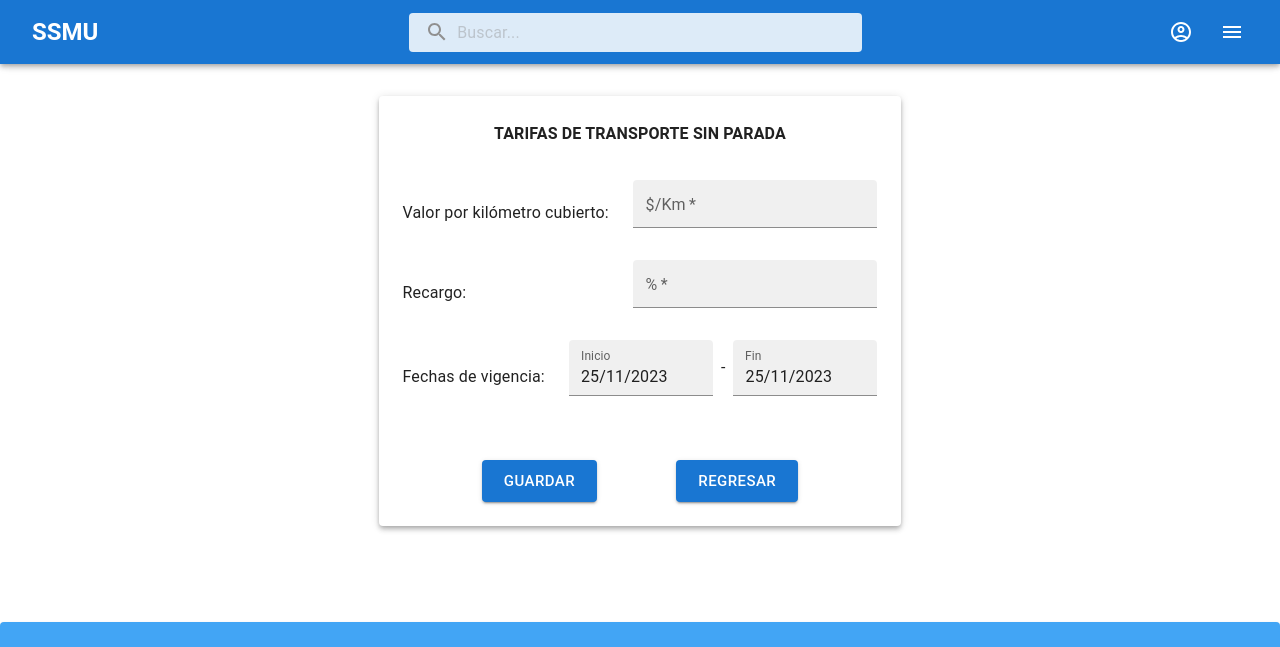
Test: DeTransportePage › displays error message when surchage is not between 0% and 30% and all required fields are set
In the field labelled "Valor por kilómetro cubierto:": point(756, 204) x1=634 y1=180 x2=878 y2=228, type "2"
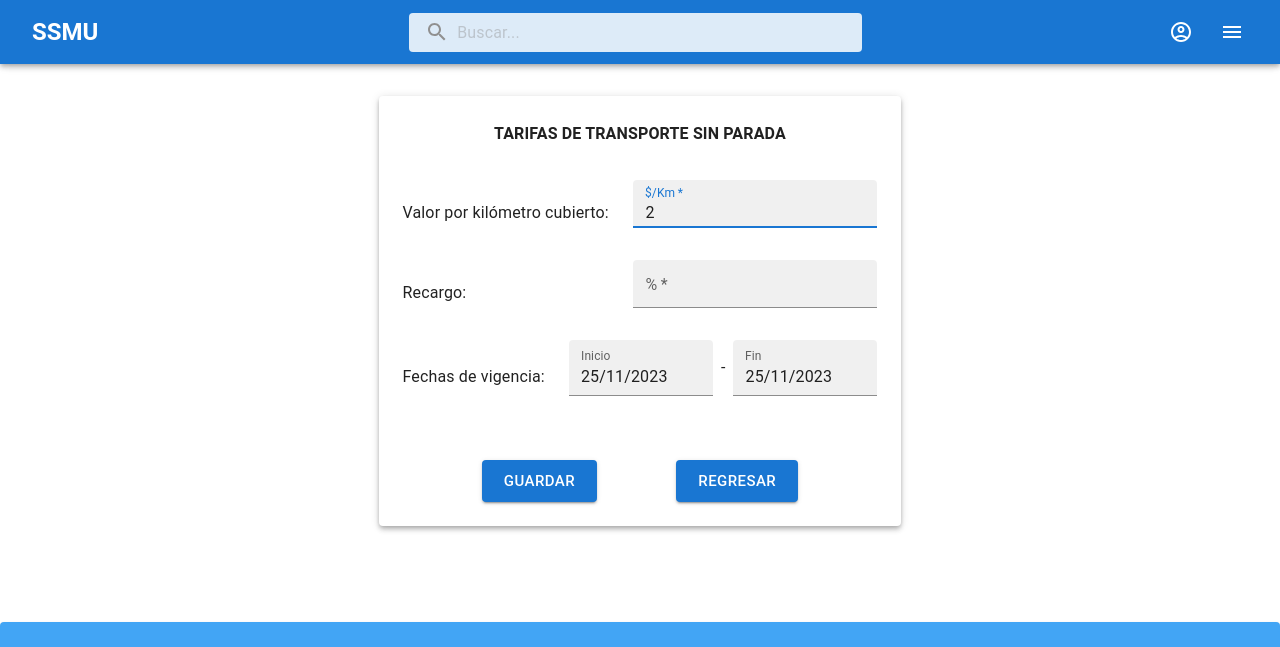
In the field labelled "Recargo:": point(756, 284) x1=634 y1=260 x2=878 y2=308, type "40"
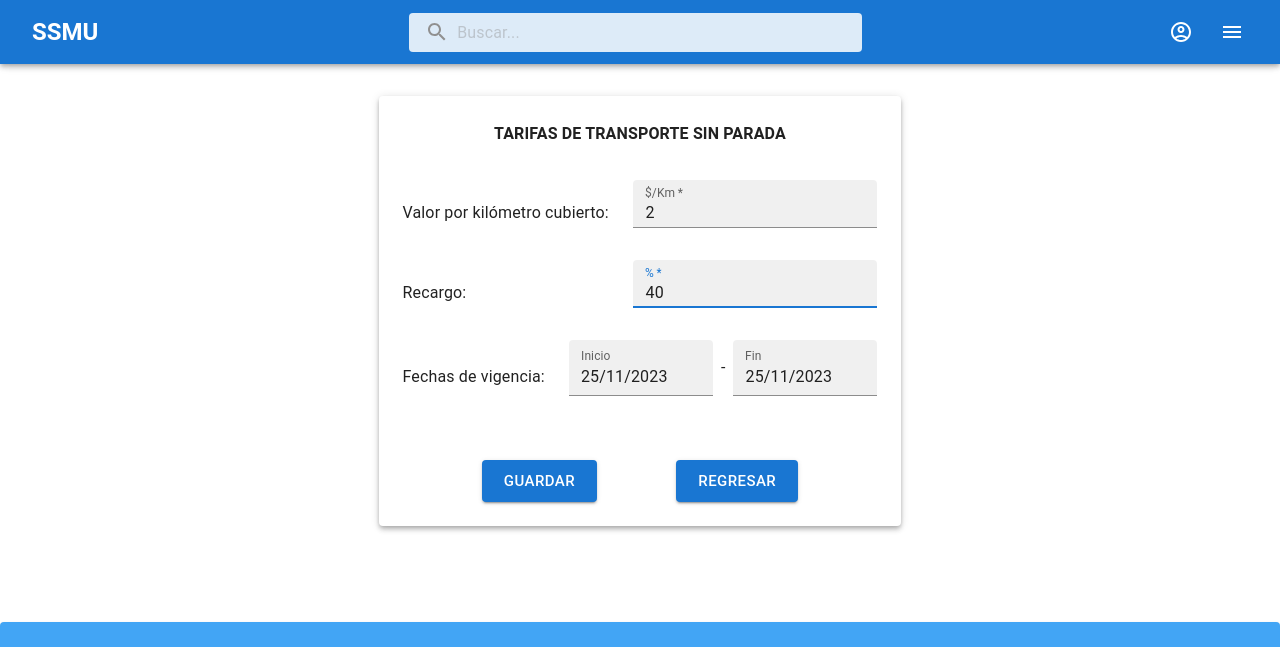
Click the button "GUARDAR": point(539, 481) x1=482 y1=460 x2=597 y2=502
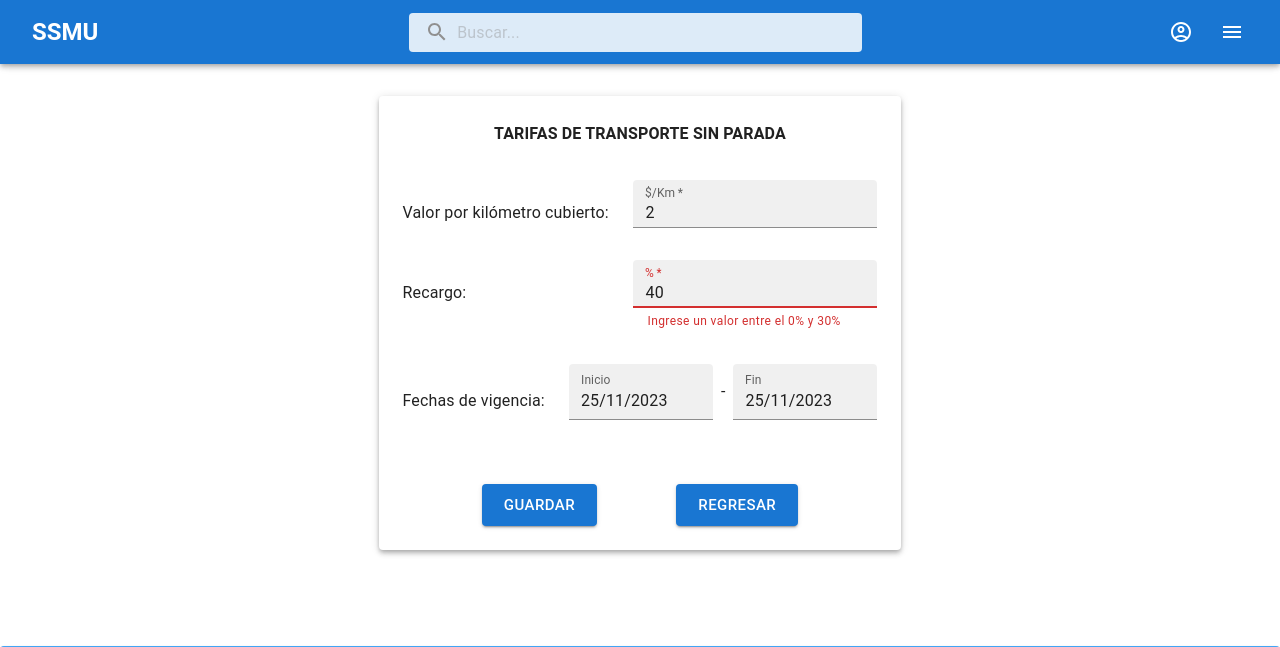
Result: the text "Ingrese un valor entre el 0% y 30%" is shown at x1=648 y1=312 x2=864 y2=332
